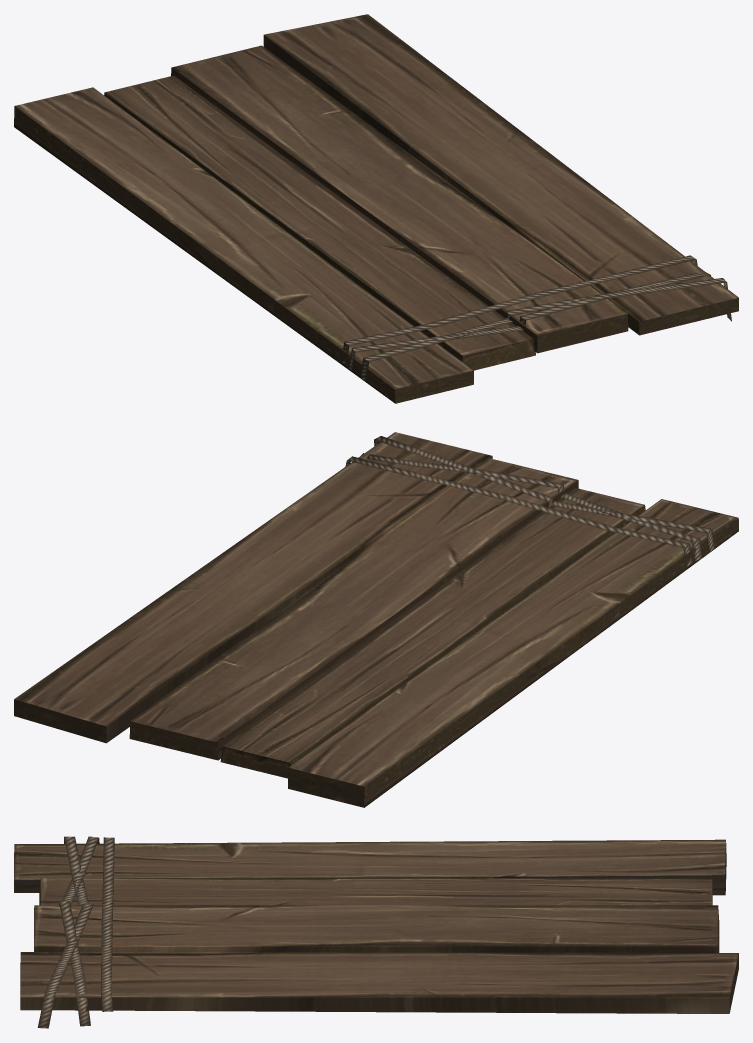
File: fld_qiao02_z.FBX
3 renders of one model, top to bottom at view 1: azimuth 30°, elevation 25°; view 2: azimuth 150°, elevation 25°; view 3: azimuth 270°, elevation 25°, orthographic. The views are drawn at different scales.
Visible parts, largest first — view 1: fld_qiao02_z; view 2: fld_qiao02_z; view 3: fld_qiao02_z.
Part boxes in pixels (x1,y1,x2,y2): fld_qiao02_z: [14, 14, 738, 403]; fld_qiao02_z: [14, 432, 738, 807]; fld_qiao02_z: [14, 836, 738, 1028].
Size of the model in its own units: 32.98 by 3.56 by 61.81.
